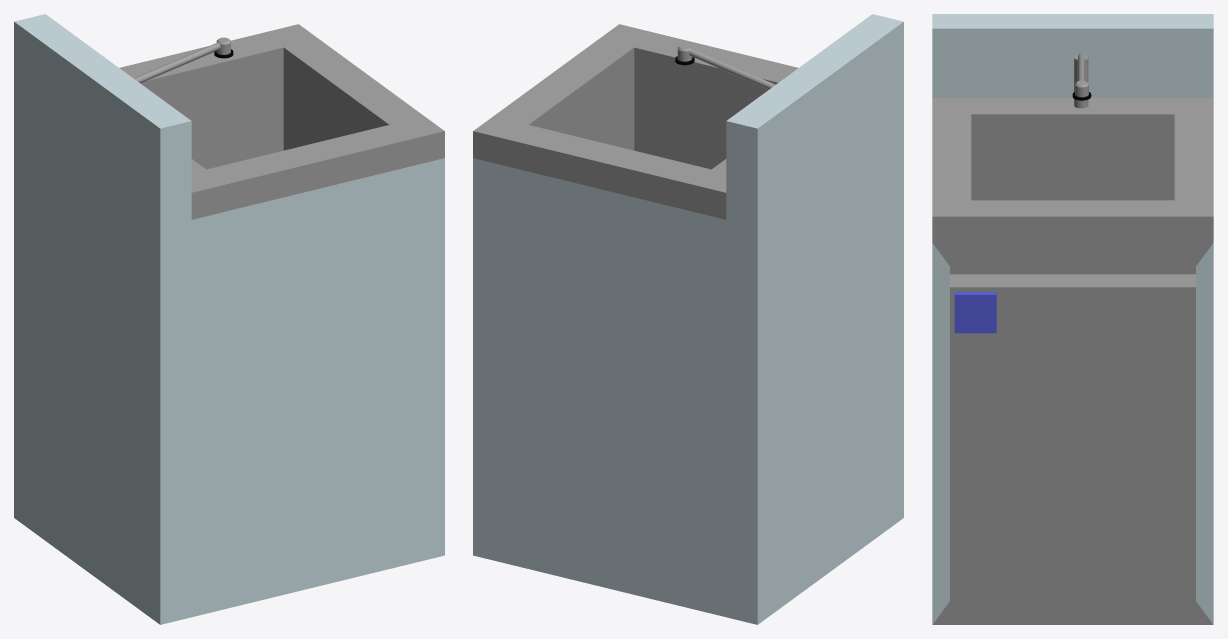
Rendered from 싱크대.glb.
3 renders of one model, left to right at view 1: azimuth 30°, elevation 25°; view 2: azimuth 150°, elevation 25°; view 3: azimuth 270°, elevation 25°, orthographic. The views are drawn at different scales.
Visible parts, largest first — view 1: Cube, Cylinder.001; view 2: Cube, Cylinder.001; view 3: Cube, Cube.001.
Boxes of the visible parts, left/top/right/bottom form: Cube: left=14, top=14, right=444, bottom=624; Cylinder.001: left=134, top=42, right=220, bottom=83; Cube: left=473, top=14, right=903, bottom=624; Cylinder.001: left=689, top=48, right=775, bottom=89; Cube: left=932, top=14, right=1213, bottom=624; Cube.001: left=954, top=292, right=996, bottom=333.
Bounding box in the file's own units: 11.49 × 18.73 × 10.
